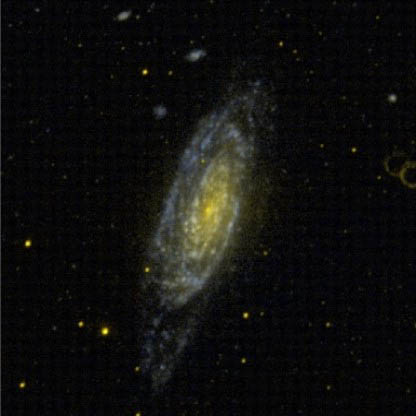NGC 3521: (98, 42, 319, 335)
